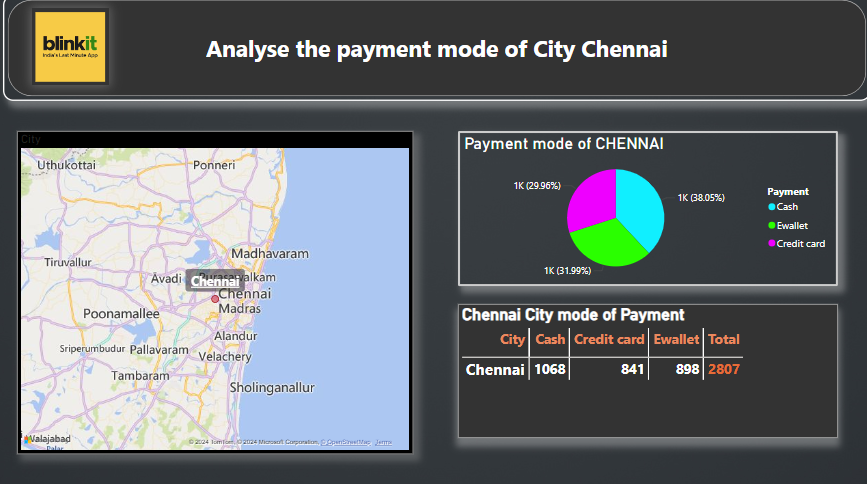

The dashboard page shown, as its layout file describes it:
{"tool":"powerbi","page":{"name":"10","canvas":[1280,720],"ordinal":10},"visuals":[{"type":"shape","box":[10,0,1270,155],"z":0},{"type":"image","box":[53.3,18.3,111.7,113.3],"z":1000},{"type":"pieChart","title":"Payment  mode  of CHENNAI","fields":{"Category":["blinkit dark store.Payment"],"Y":["Sum(blinkit dark store.CHENNAI)"]},"box":[675.7,198.6,555.7,227.1],"z":2000},{"type":"map","fields":{"Category":["blinkit dark store.City"]},"box":[31.4,198.6,580,472.9],"z":3000},{"type":"pivotTable","title":"Chennai City mode of Payment","fields":{"Rows":["blinkit dark store.City"],"Columns":["blinkit dark store.Payment"],"Values":["CountNonNull(blinkit dark store.Payment)"]},"box":[675.7,452.9,555.7,195.7],"z":4000}]}

Visuals, with their boxes in screenshot pixels (x1, y1, x2, y2), scaled from the page's 1280x720 canvas onto the 867x484 screenshot:
shape: select_region(7, 0, 866, 104)
image: select_region(36, 12, 112, 88)
"Payment  mode  of CHENNAI" pieChart: select_region(458, 134, 834, 286)
map - blinkit dark store.City: select_region(21, 134, 414, 451)
"Chennai City mode of Payment" pivotTable: select_region(458, 304, 834, 436)
